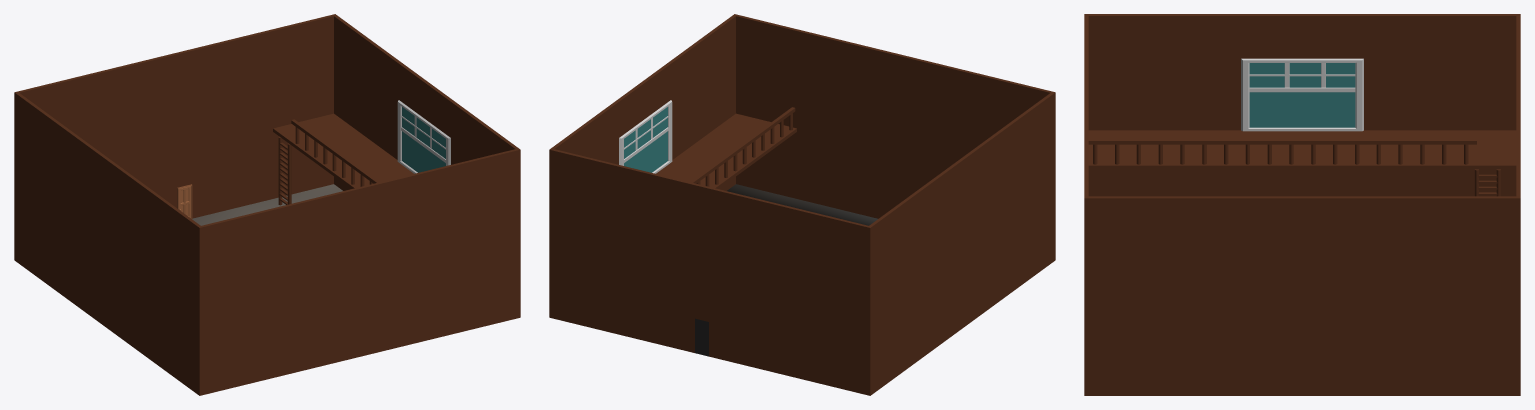
The model's file is library.fbx.
3 views of the same model, side by side, from view 1: azimuth 30°, elevation 25°; view 2: azimuth 150°, elevation 25°; view 3: azimuth 270°, elevation 25° (orthographic). The views are drawn at different scales.
Parts seen in each view (by area): view 1: Estructura, pasillo.001, Window B.001, Estructura.001, baranda.001, pasillo, Door B, escalera.003; view 2: Estructura, pasillo.001, Window B.001, Estructura.001, baranda.001; view 3: Estructura, pasillo, Window B, baranda, escalera.001.
Part boxes in pixels (x1,y1,x2,y2): Estructura: [14, 14, 520, 395]; pasillo.001: [273, 113, 520, 265]; Window B.001: [397, 100, 450, 173]; Estructura.001: [192, 184, 342, 225]; baranda.001: [291, 119, 461, 245]; pasillo: [17, 193, 263, 328]; Door B: [177, 184, 192, 218]; escalera.003: [278, 136, 291, 178]; Estructura: [549, 14, 1055, 395]; pasillo.001: [656, 113, 796, 188]; Window B.001: [619, 100, 672, 173]; Estructura.001: [727, 184, 877, 225]; baranda.001: [690, 107, 795, 186]; Estructura: [1084, 14, 1520, 395]; pasillo: [1088, 130, 1516, 169]; Window B: [1241, 58, 1363, 131]; baranda: [1088, 139, 1476, 164]; escalera.001: [1474, 169, 1500, 196].
Size of the model in its own units: 2000 by 1000 by 2000.
6 materials, 1 textured.
